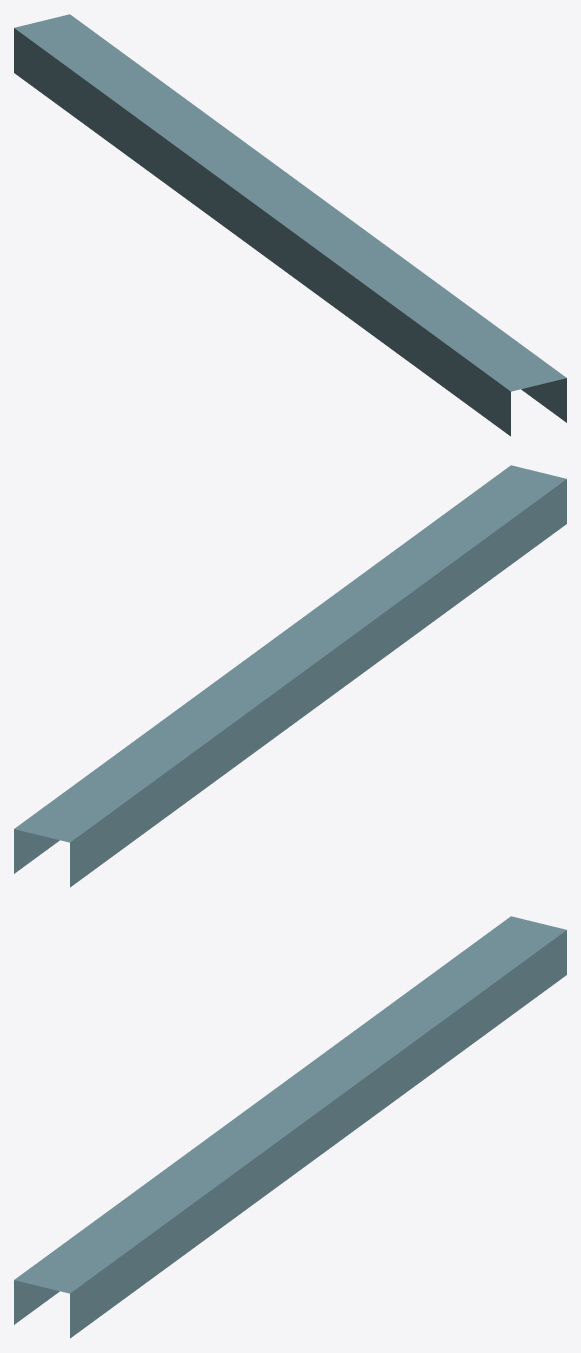
File: Box_flat.fbx
The picture shows the model from 3 angles, top to bottom: view 1: azimuth 30°, elevation 25°; view 2: azimuth 150°, elevation 25°; view 3: azimuth 330°, elevation 25°; orthographic projection.
Parts seen in each view (by area): view 1: BoxRidingSurface; view 2: BoxRidingSurface; view 3: BoxRidingSurface.
Part boxes in pixels (box(x1,y1,x2,y2)): BoxRidingSurface: box(14, 14, 566, 436); BoxRidingSurface: box(14, 465, 566, 887); BoxRidingSurface: box(14, 916, 566, 1338).
Size of the model in its own units: 0.65 by 0.5 by 10.
